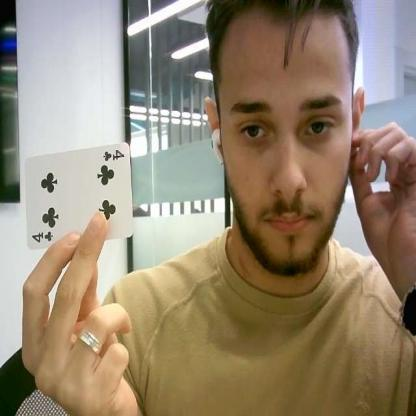4C: (30, 228, 54, 246), (101, 148, 126, 162)
